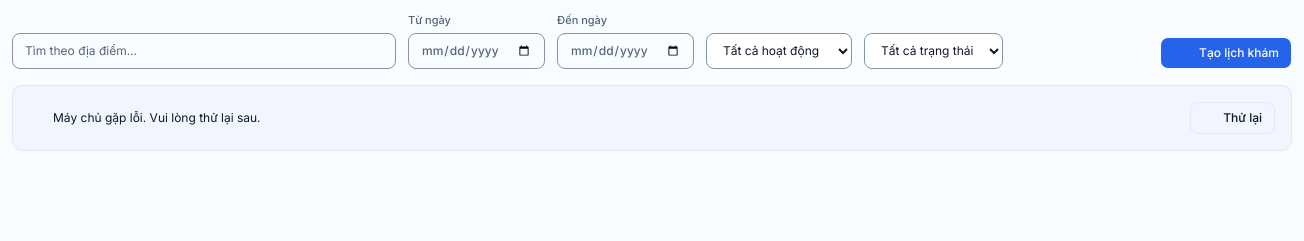
Test: SessionsTab list › offers a retry when the list cannot be loaded
Check: the message shows "Máy chủ gặp lỗi", box [53, 110, 261, 124]
Click the button "Thử lại": (1233, 118) [1190, 102, 1275, 134]
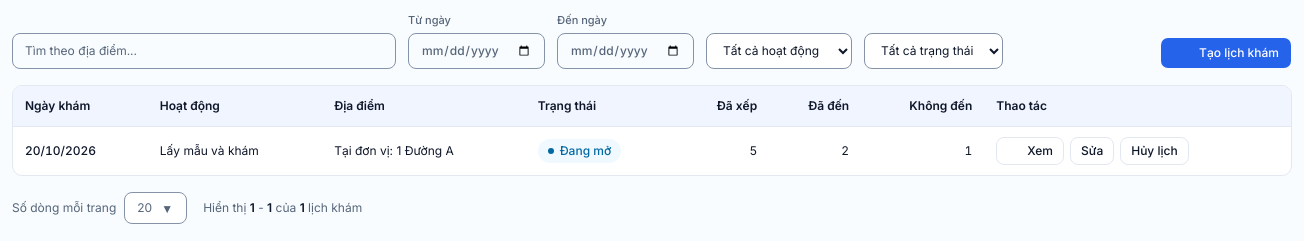
Check: the text "20/10/2026" is shown, box [13, 126, 148, 174]
